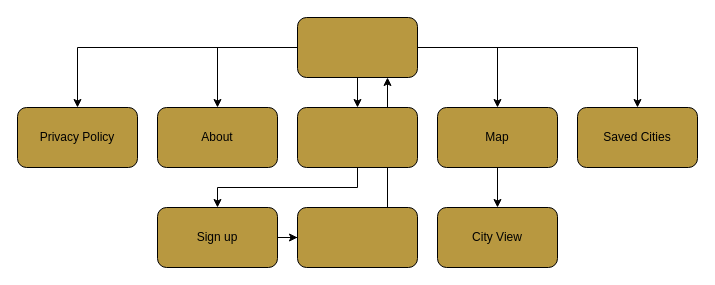
The diagram is 715 pixels wide and 285 high, and some of its shapes have lost their labels. The shapes that lost their labels are listed below. From the top down, each one's centre as x and y in pixels, then its label:
At [357,47]: "Home Page".
At [357,137]: "Login".
At [357,237]: "City Rating".
